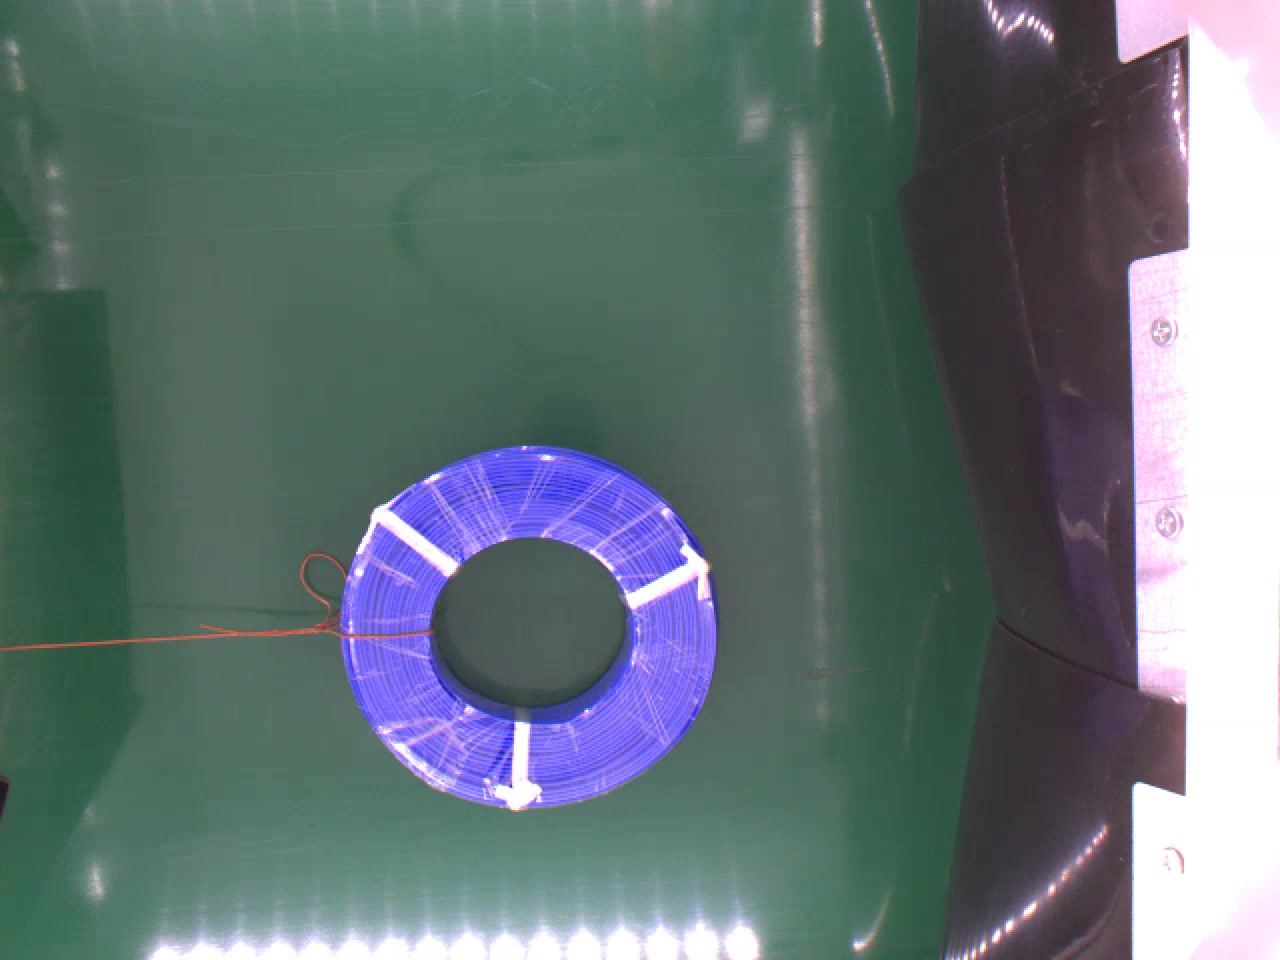blue: (334, 437, 728, 809)
